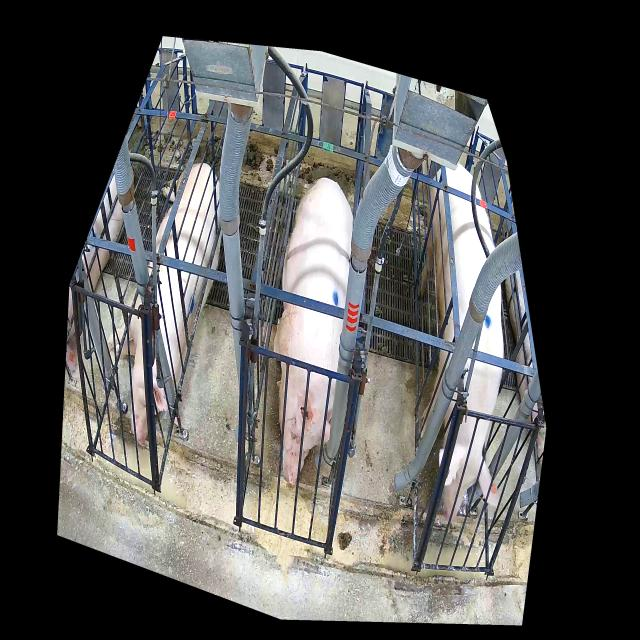pig: (108, 163, 222, 446), (418, 163, 504, 520), (273, 177, 353, 485)
